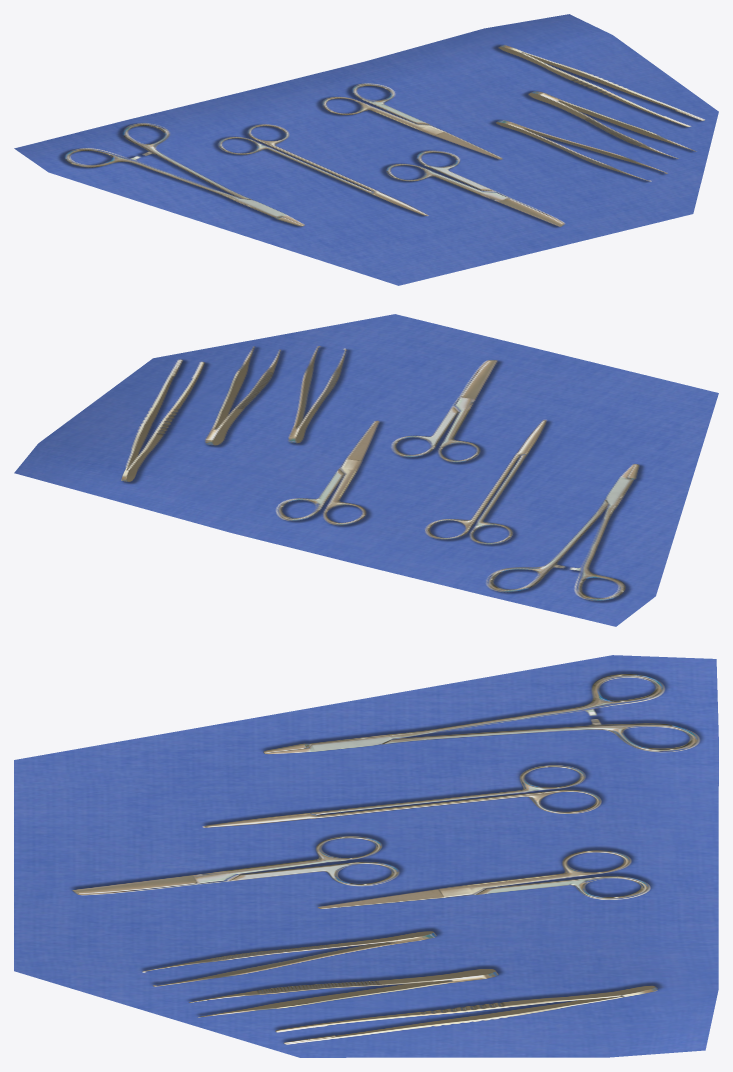
Rendered from LeftSideFinalPatch.fbx.
3 renders of one model, top to bottom at view 1: azimuth 30°, elevation 25°; view 2: azimuth 150°, elevation 25°; view 3: azimuth 270°, elevation 25°, orthographic. The views are drawn at different scales.
Parts seen in each view (by area): view 1: ScissorsTablePatch; view 2: ScissorsTablePatch; view 3: ScissorsTablePatch.
Part boxes in pixels (bbox=[...]): ScissorsTablePatch: bbox=[14, 14, 718, 285]; ScissorsTablePatch: bbox=[14, 314, 718, 626]; ScissorsTablePatch: bbox=[14, 655, 718, 1057].
Bounding box in the file's own units: 0.4101 × 0.00325 × 0.3022.
1 material, 1 textured.
